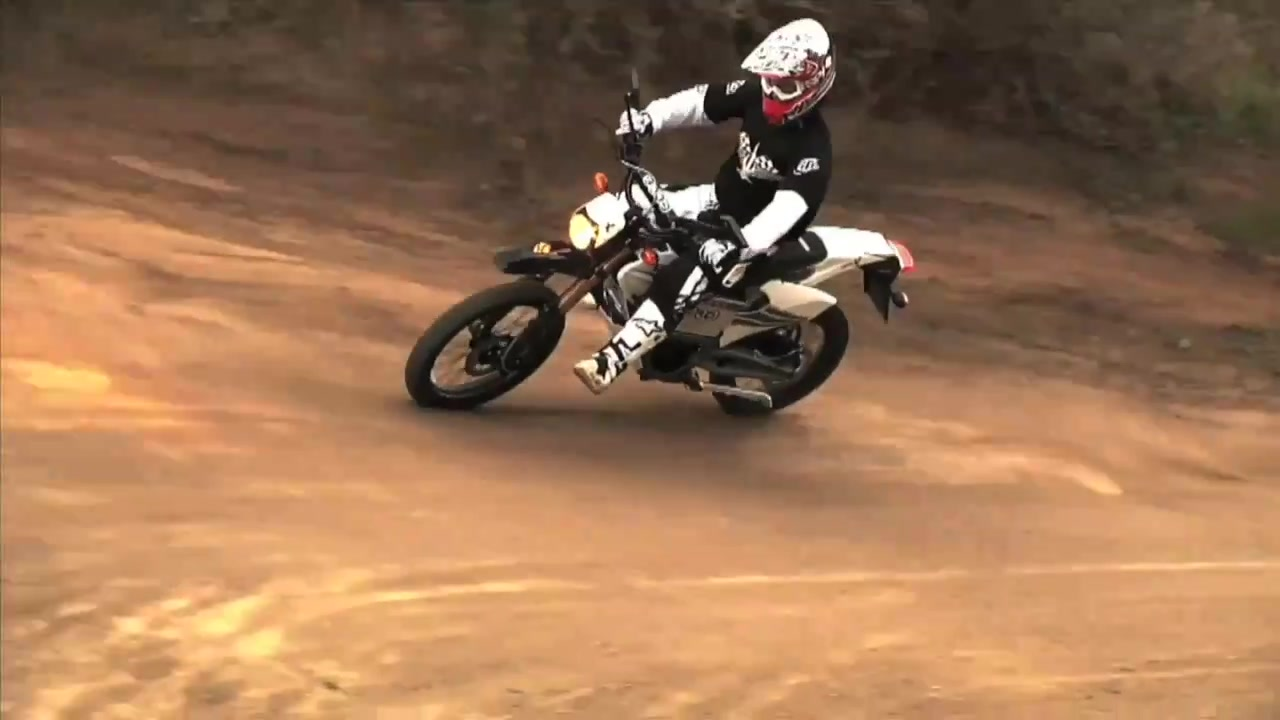motorbike: (400, 73, 912, 419)
